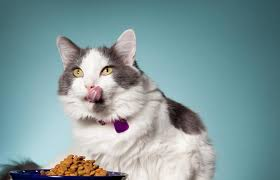Gato: (39, 25, 168, 130)
